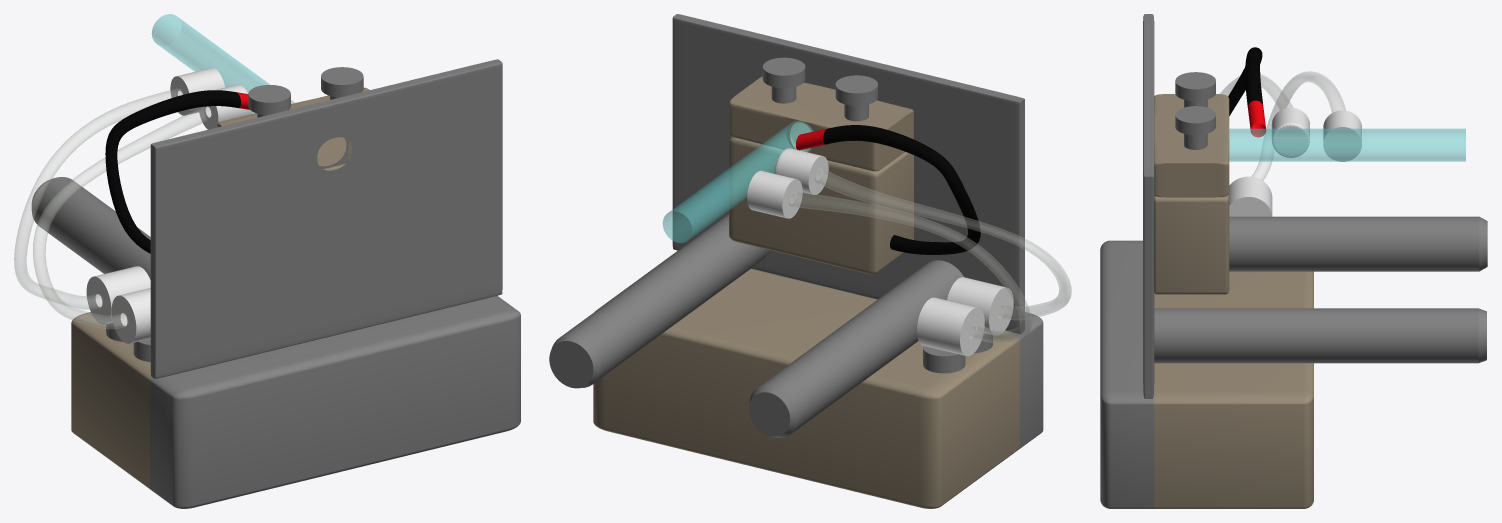
Rendered from Plasma Torch.fbx.
The picture shows the model from 3 angles, left to right: view 1: azimuth 30°, elevation 25°; view 2: azimuth 150°, elevation 25°; view 3: azimuth 270°, elevation 25°; orthographic projection. The views are drawn at different scales.
Visible parts, largest first — view 1: Cube.002, Cube, Cylinder.053, Plasma Torch.004, Plasma Torch.003, Plasma Torch.002, Cylinder.054, Plasma Torch.005, Plasma Torch.006, Cube.004, Plasma Torch.007, Cylinder.058 (+2 smaller); view 2: Cube, Cube.002, Cube.003, Cylinder.052, Cylinder.053, Cube.004, Cylinder.054, Plasma Torch.002, Plasma Torch.004, Plasma Torch.003, Plasma Torch.005, Plasma Torch.006 (+5 smaller); view 3: Cube, Cylinder.052, Cylinder.053, Cylinder.054, Cube.003, Cube.004, Cube.002, Plasma Torch.003, Plasma Torch.002, Plasma Torch.007, Plasma Torch.001, Plasma Torch.005 (+3 smaller).
Part boxes in pixels (bbox=[...]): Cube.002: bbox=[150, 59, 502, 378]; Cube: bbox=[71, 295, 520, 508]; Cylinder.053: bbox=[31, 177, 150, 279]; Plasma Torch.004: bbox=[33, 107, 211, 328]; Plasma Torch.003: bbox=[14, 88, 182, 309]; Plasma Torch.002: bbox=[105, 90, 249, 253]; Cylinder.054: bbox=[151, 14, 294, 113]; Plasma Torch.005: bbox=[86, 266, 150, 324]; Plasma Torch.006: bbox=[111, 288, 150, 343]; Cube.004: bbox=[217, 87, 369, 169]; Plasma Torch.007: bbox=[170, 67, 224, 115]; Cylinder.058: bbox=[248, 85, 290, 117]; Cube: bbox=[593, 251, 1043, 508]; Cube.002: bbox=[672, 14, 1024, 333]; Cube.003: bbox=[729, 137, 913, 274]; Cylinder.052: bbox=[549, 214, 768, 388]; Cylinder.053: bbox=[749, 260, 963, 437]; Cube.004: bbox=[729, 76, 913, 171]; Cylinder.054: bbox=[662, 121, 813, 242]; Plasma Torch.002: bbox=[796, 125, 980, 254]; Plasma Torch.004: bbox=[815, 168, 1071, 319]; Plasma Torch.003: bbox=[789, 191, 1031, 343]; Plasma Torch.005: bbox=[917, 297, 984, 356]; Plasma Torch.006: bbox=[947, 277, 1013, 335]; Cube: bbox=[1100, 240, 1313, 508]; Cylinder.052: bbox=[1154, 308, 1486, 363]; Cylinder.053: bbox=[1229, 216, 1487, 271]; Cylinder.054: bbox=[1229, 128, 1465, 161]; Cube.003: bbox=[1154, 193, 1229, 294]; Cube.004: bbox=[1154, 94, 1229, 197]; Cube.002: bbox=[1143, 14, 1154, 398]; Plasma Torch.003: bbox=[1252, 71, 1345, 180]; Plasma Torch.002: bbox=[1228, 47, 1266, 137]; Plasma Torch.007: bbox=[1323, 110, 1361, 161]; Plasma Torch.001: bbox=[1271, 107, 1309, 157]; Plasma Torch.005: bbox=[1229, 176, 1272, 216].
Size of the model in its own units: 159 by 125 by 130.
